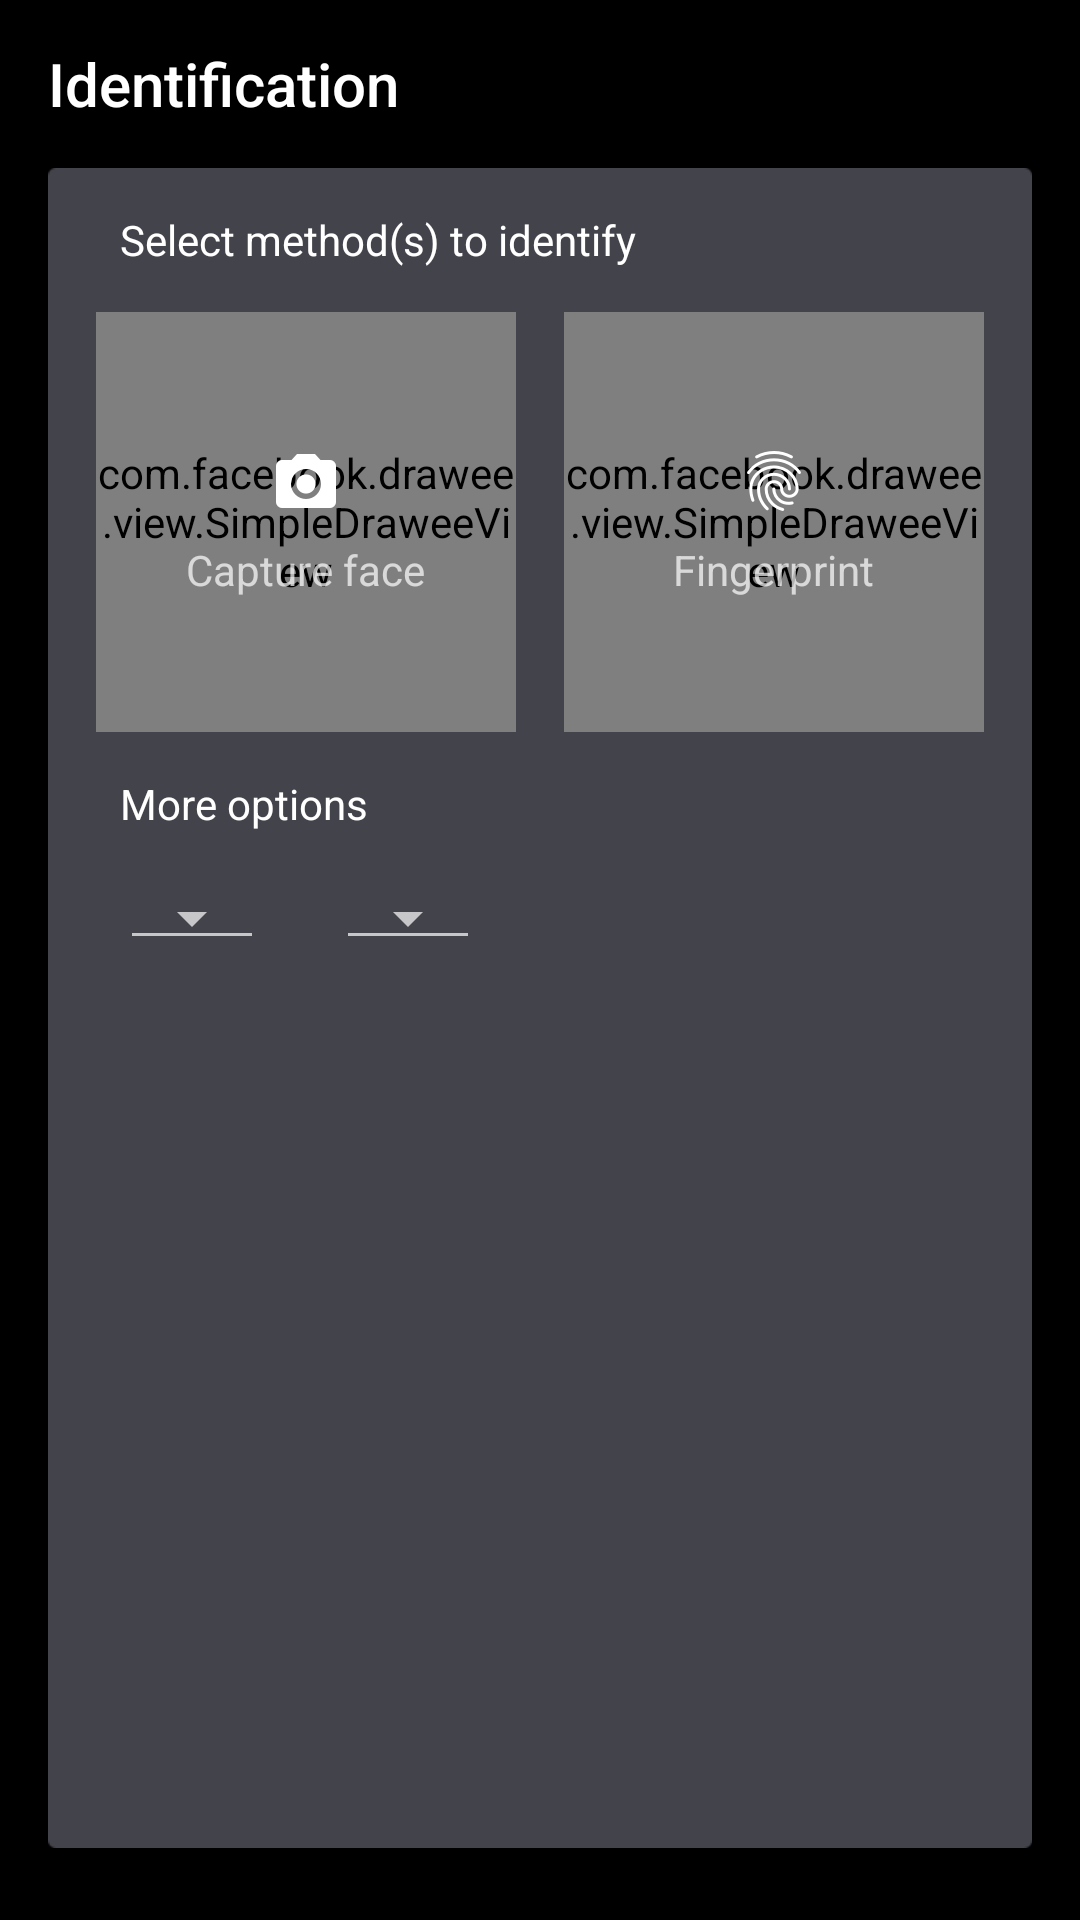

Screen size 1080px x 1920px. Icon name, then its box in pixels as (x1, y1, x2, y2):
camera: (270, 454, 342, 517)
